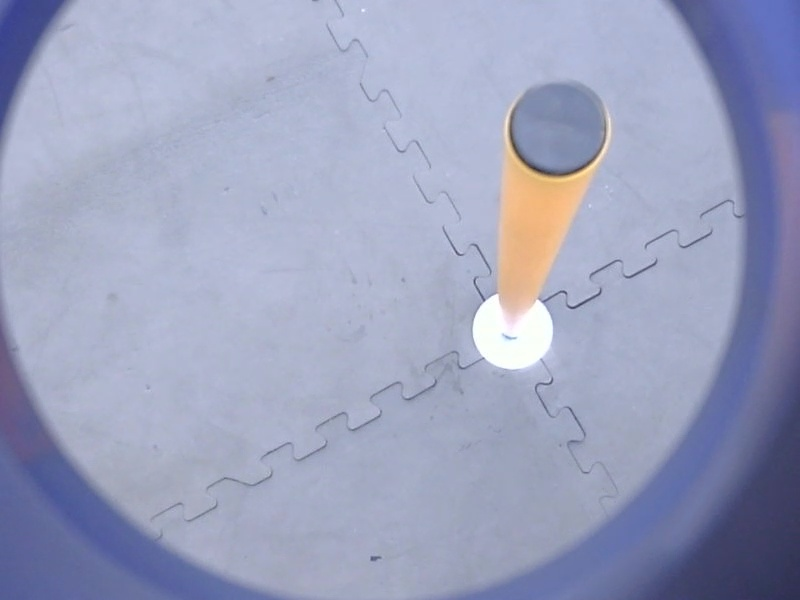tip: (500, 72, 618, 187)
